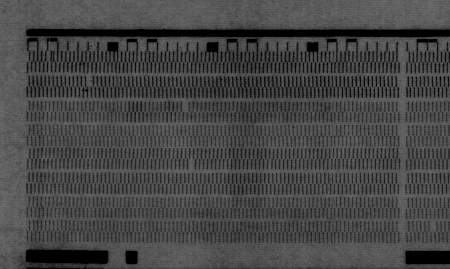Broken hole: (84, 74, 96, 87), (186, 159, 197, 173), (180, 101, 191, 114), (428, 220, 439, 233)
